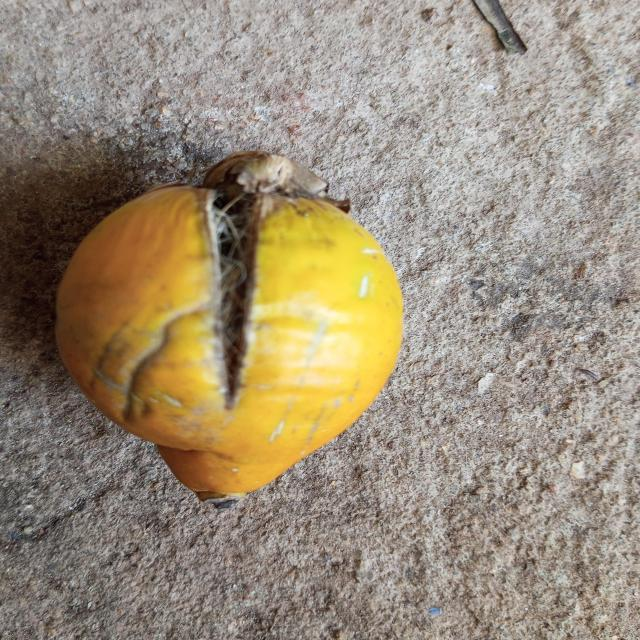damaged: (56, 151, 402, 507)
